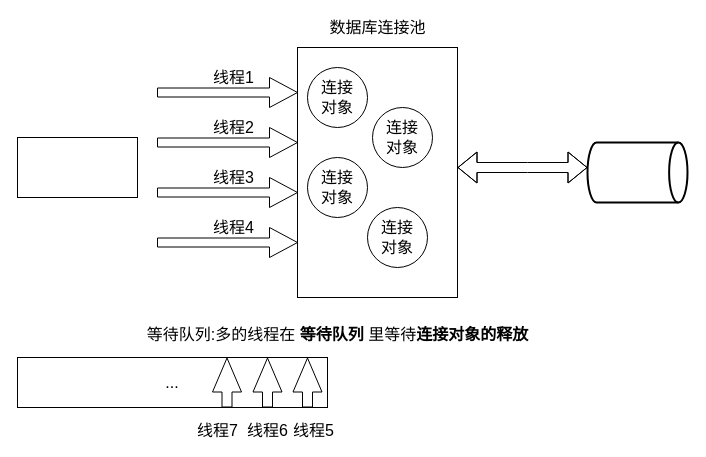
The diagram is 706 pixels wide and 457 high, and some of its shapes have lost their labels. Here are the shapes that lost their labels. From the top down, the box of each, then its label:
(16, 136, 138, 198): java程序
(586, 141, 688, 203): DB
